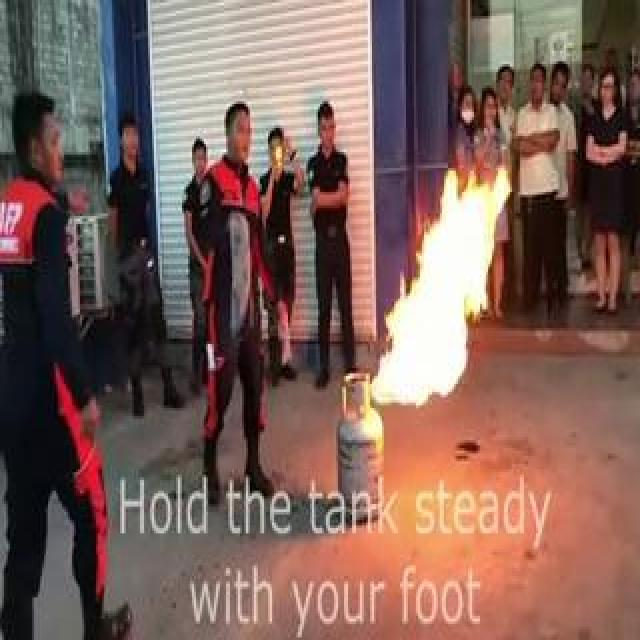Fire: (363, 118, 495, 414)
